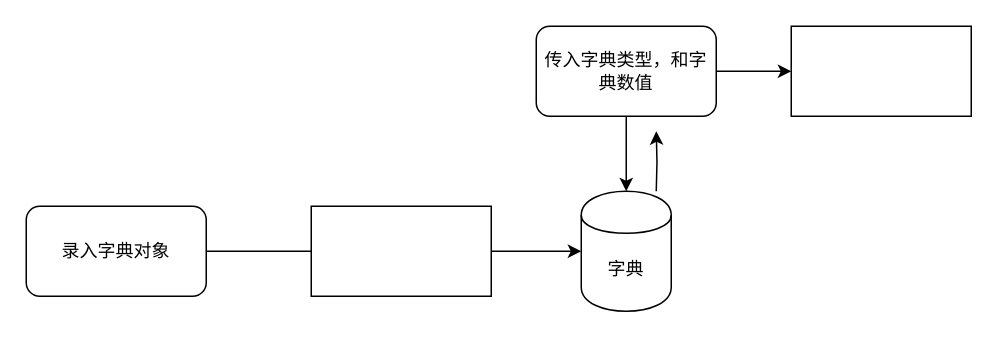
Image size: 998x338. Some labels were removed from this diagram. Here are the shapes that lost their labels. From the top down, the box of each, then its label:
(790, 25, 971, 116): 获取字典条目对象
(310, 205, 491, 296): 添加字典条目对象
